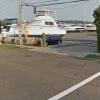Boat: (8, 12, 71, 49)
